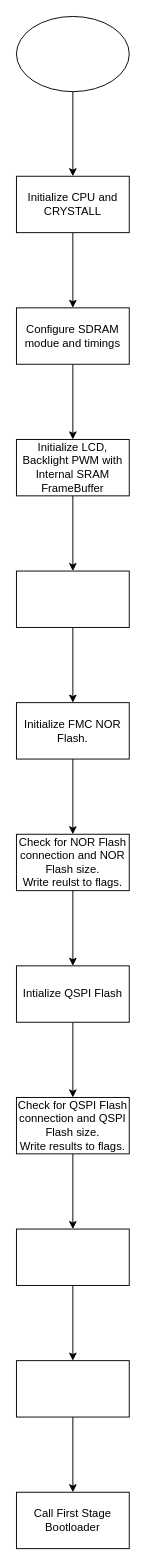
The diagram is 146 pixels wide and 1565 high, and some of its shapes have lost their labels. The shapes that lost their labels are listed below. From the top down, each one's centre as x and y in pixels, then its label:
At pixel 72 54: "Start".
At pixel 72 598: "Check for SDRAM connection and SDRAM size Write results to flags".
At pixel 72 1256: "Brief of memory test".
At pixel 72 1388: "Identify boot device".
